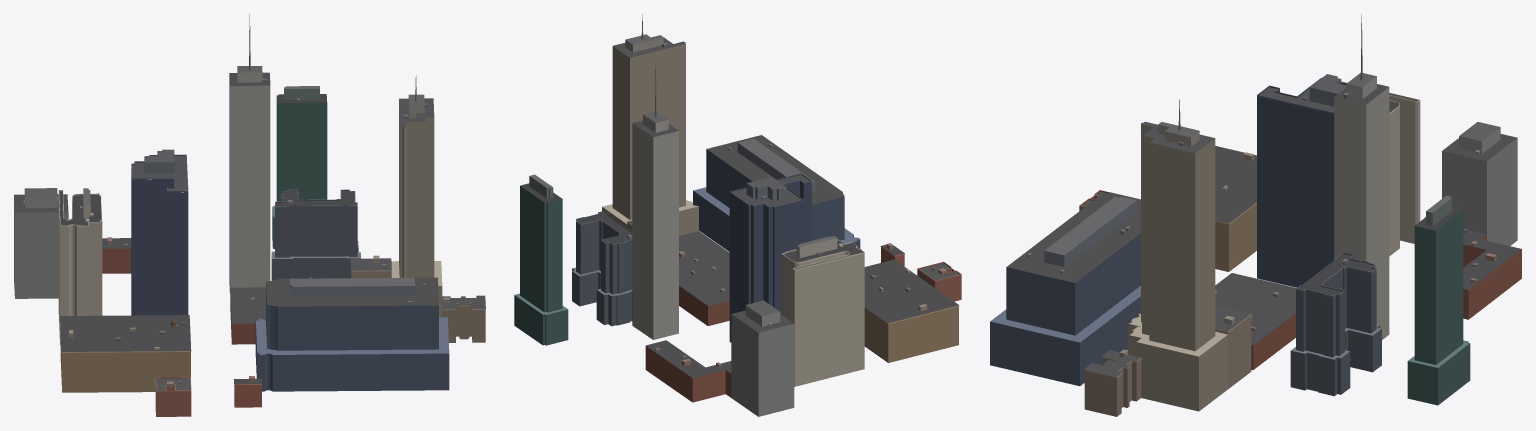
The model's file is -1_5.bld.glb.
The picture shows the model from 3 angles, left to right: view 1: azimuth 30°, elevation 25°; view 2: azimuth 150°, elevation 25°; view 3: azimuth 270°, elevation 25°; orthographic projection. The views are drawn at different scales.
Visible parts, largest first — view 1: -1_5; view 2: -1_5; view 3: -1_5.
Boxes of the visible parts, x1,y1,x2,y2 form: -1_5: (14, 14, 485, 416); -1_5: (514, 14, 961, 416); -1_5: (990, 14, 1521, 416).
Size of the model in its own units: 313 by 214 by 316.
